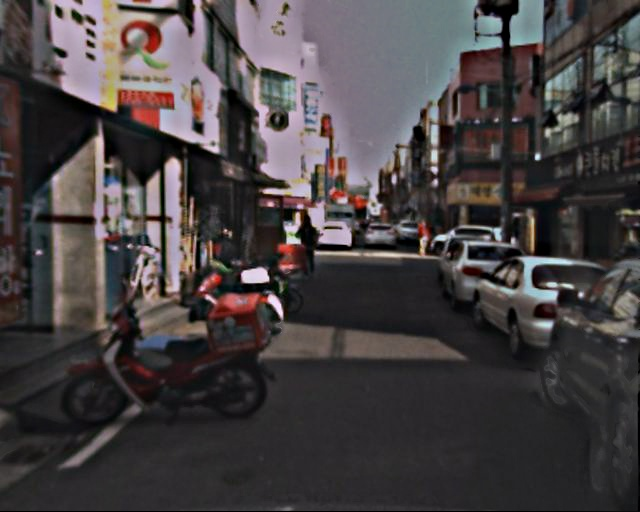person: (295, 212, 323, 281), (415, 221, 433, 256)
